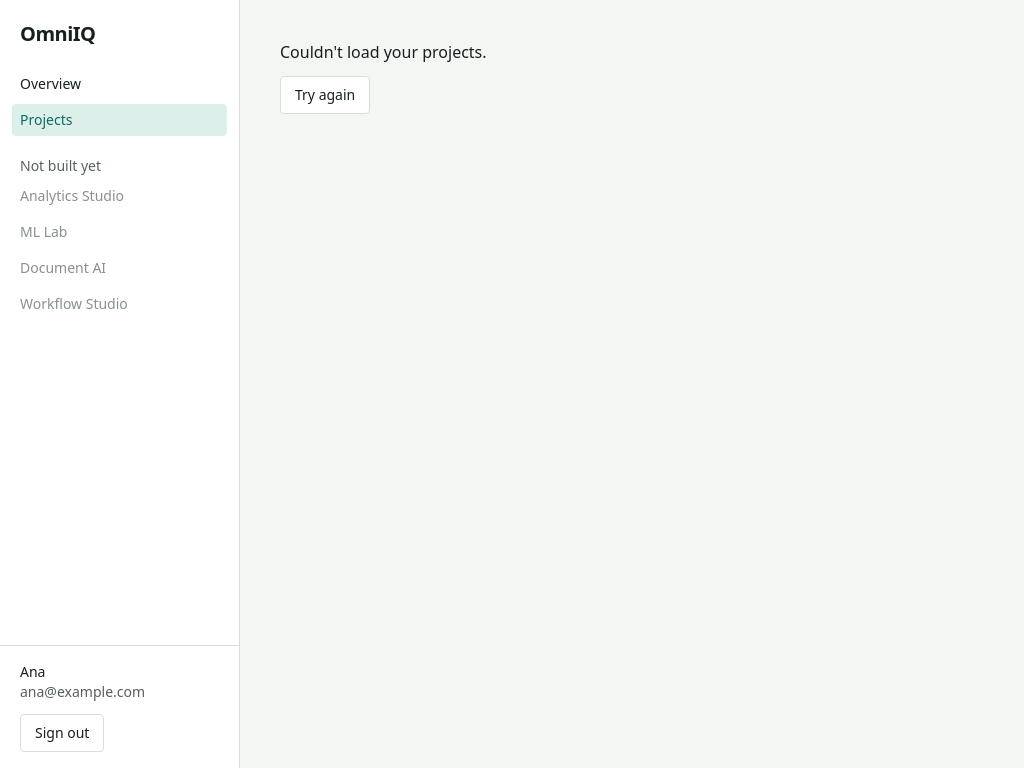
ProjectsPage › shows an error state with retry when loading fails
Expected: the text "Couldn't load your projects." is shown, [280,41,487,63]
Click the button "Try again" at (325, 95), box [280,76,370,114]
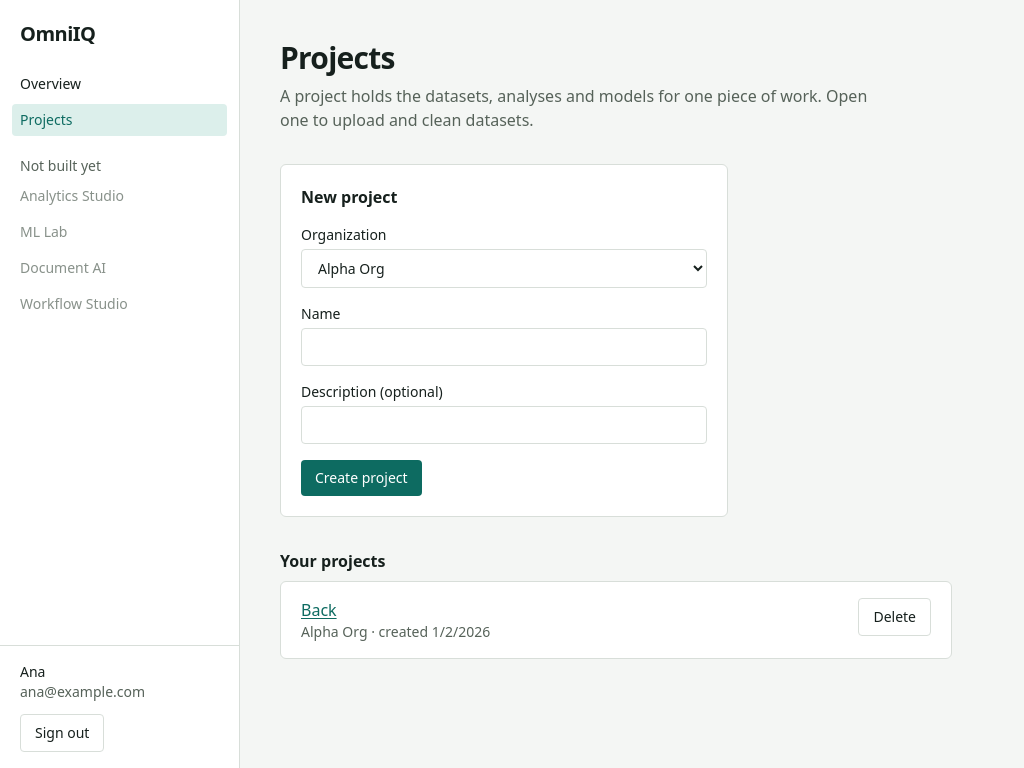
Now the link "Back" is shown, box [301,599,337,621]
